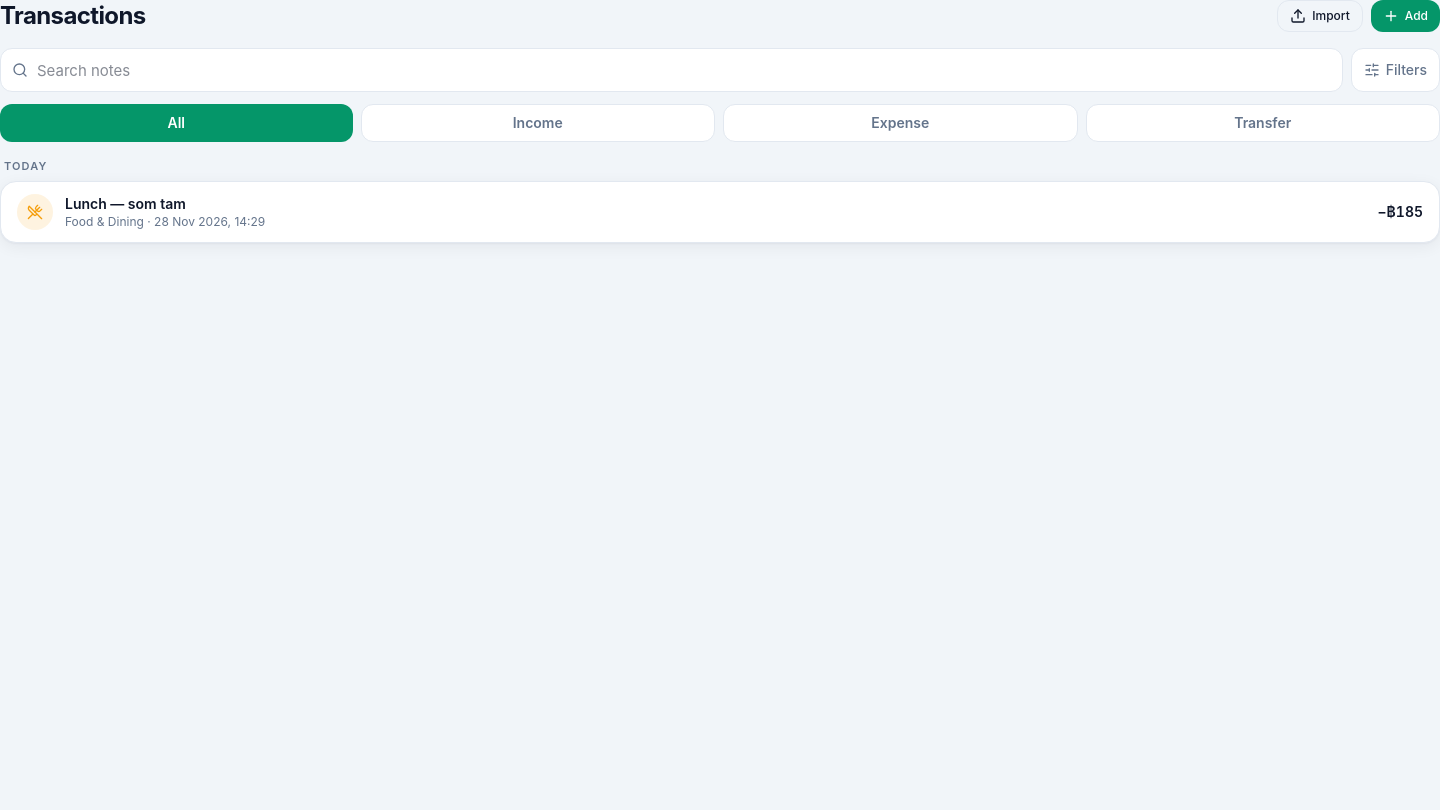
Test: Transactions page › closes the edit sheet with Escape
Click the button "Lunch — som tam Food & Dining · 28 Nov 2026, 14:29 −฿185". click: (35, 212)
box: [17,182,1423,242]
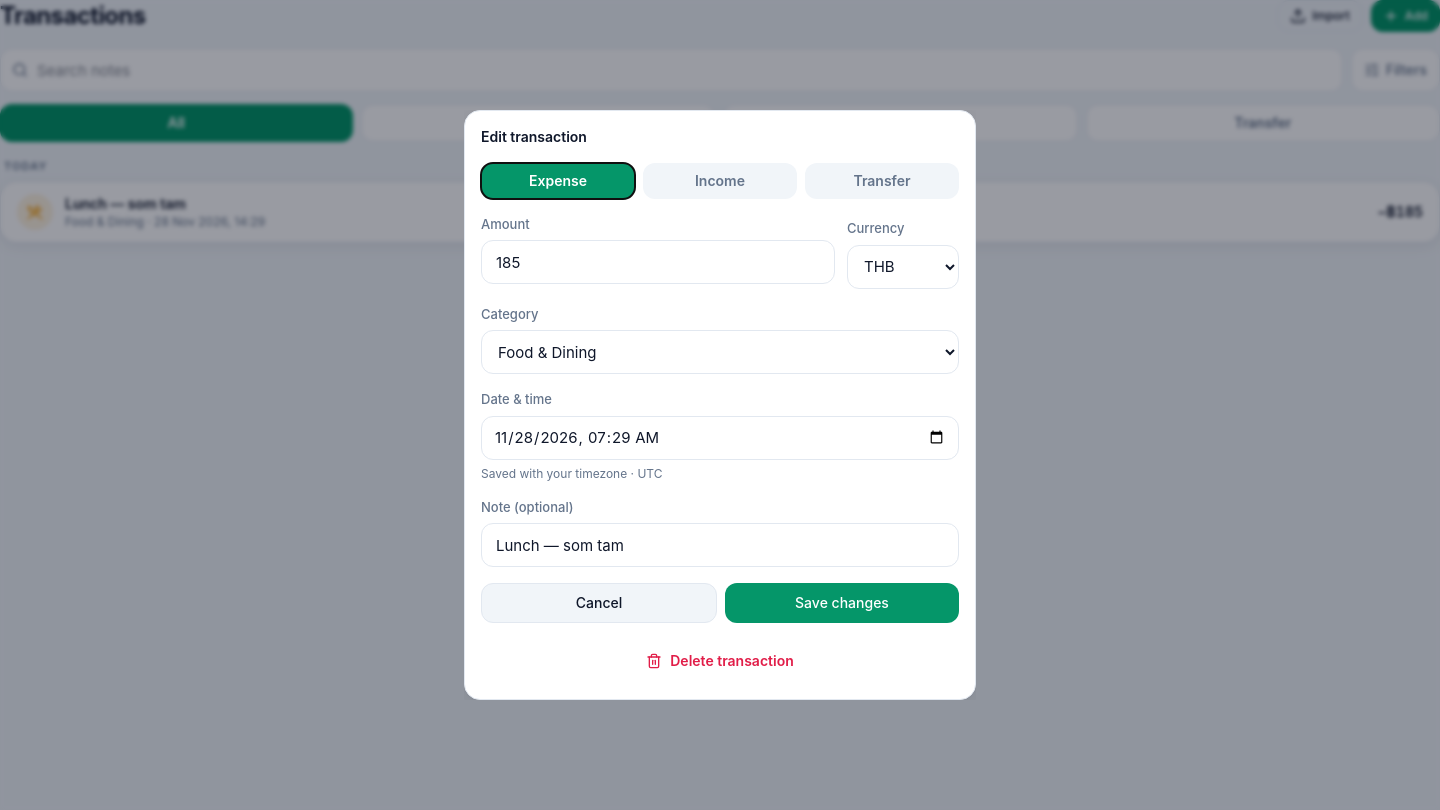
Expected: the dialog is shown, [464,110,976,700]
Press Escape
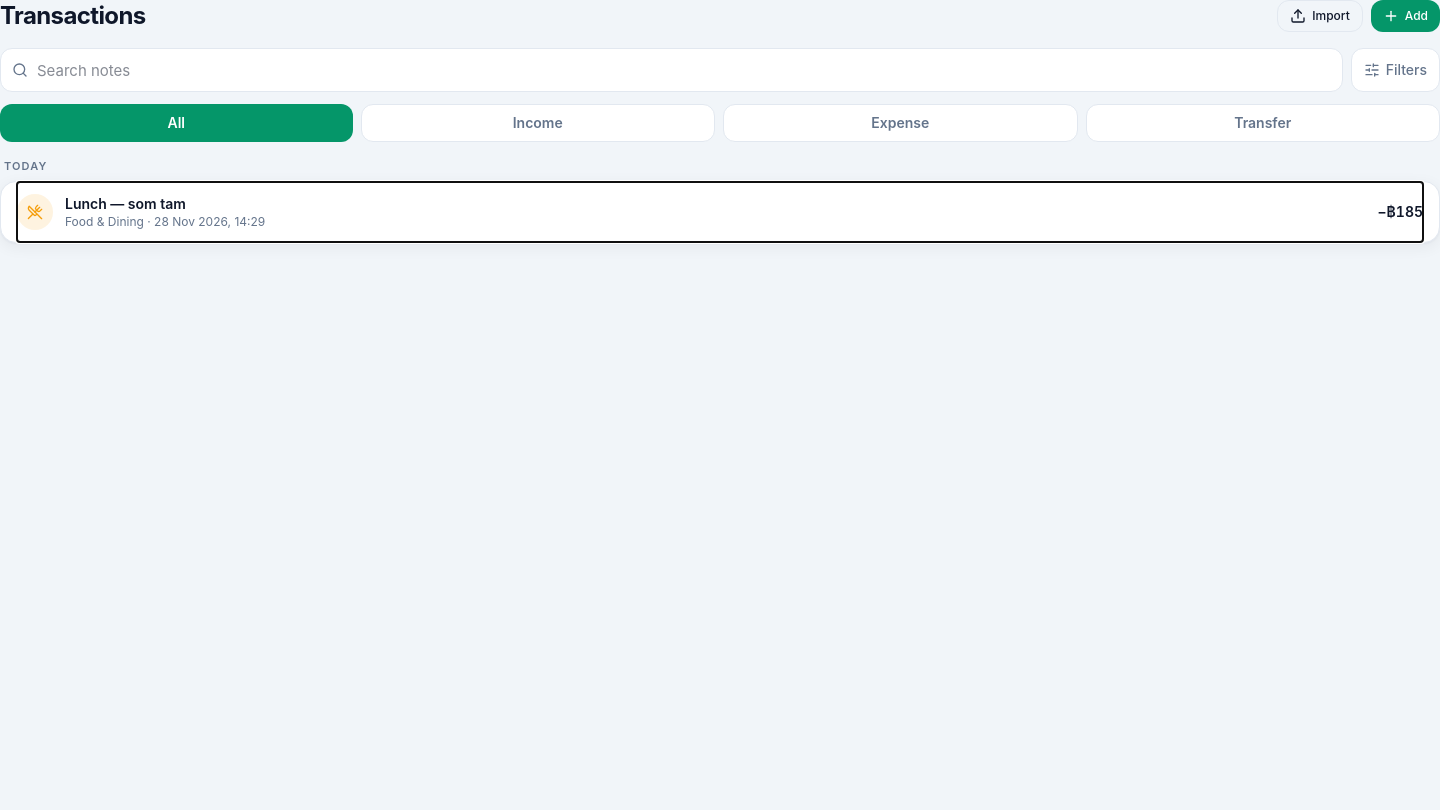
Expected: the dialog is gone
